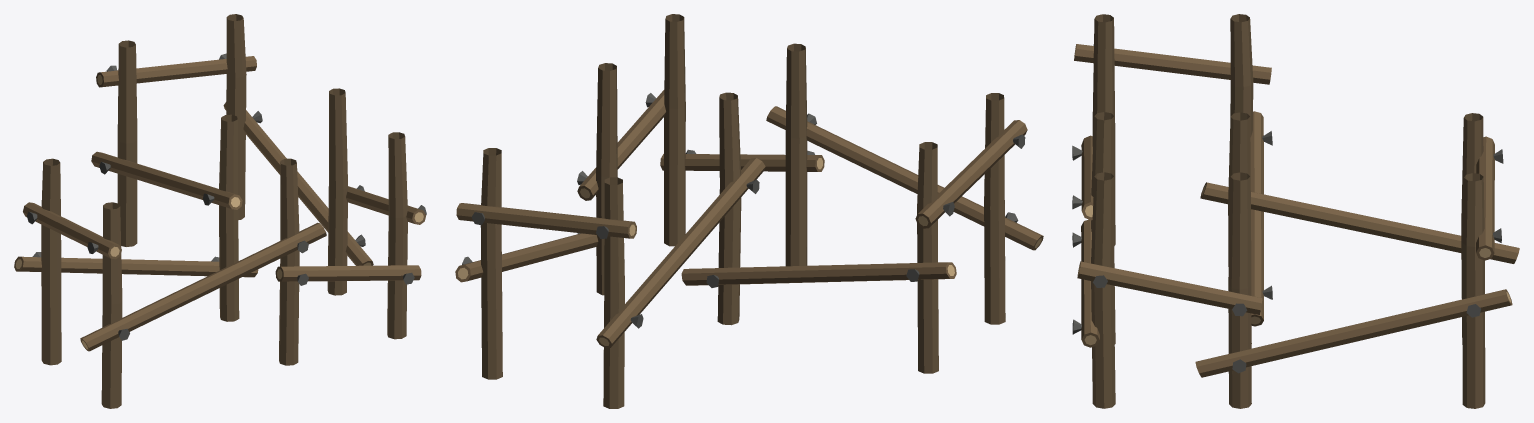
Rendered from rpgpp_ag_wall_platform_02_4x4_corner_support_01a.fbx.
3 views of the same model, side by side, from view 1: azimuth 30°, elevation 25°; view 2: azimuth 150°, elevation 25°; view 3: azimuth 270°, elevation 25° (orthographic). The views are drawn at different scales.
Visible parts, largest first — view 1: rpgpp_ag_wall_platform_02_4x4_corner_support_01a; view 2: rpgpp_ag_wall_platform_02_4x4_corner_support_01a; view 3: rpgpp_ag_wall_platform_02_4x4_corner_support_01a.
Part boxes in pixels (x1,y1,x2,y2): rpgpp_ag_wall_platform_02_4x4_corner_support_01a: [14, 14, 426, 408]; rpgpp_ag_wall_platform_02_4x4_corner_support_01a: [455, 14, 1043, 408]; rpgpp_ag_wall_platform_02_4x4_corner_support_01a: [1072, 14, 1519, 408].
Size of the model in its own units: 7.02 by 3.87 by 6.91.
